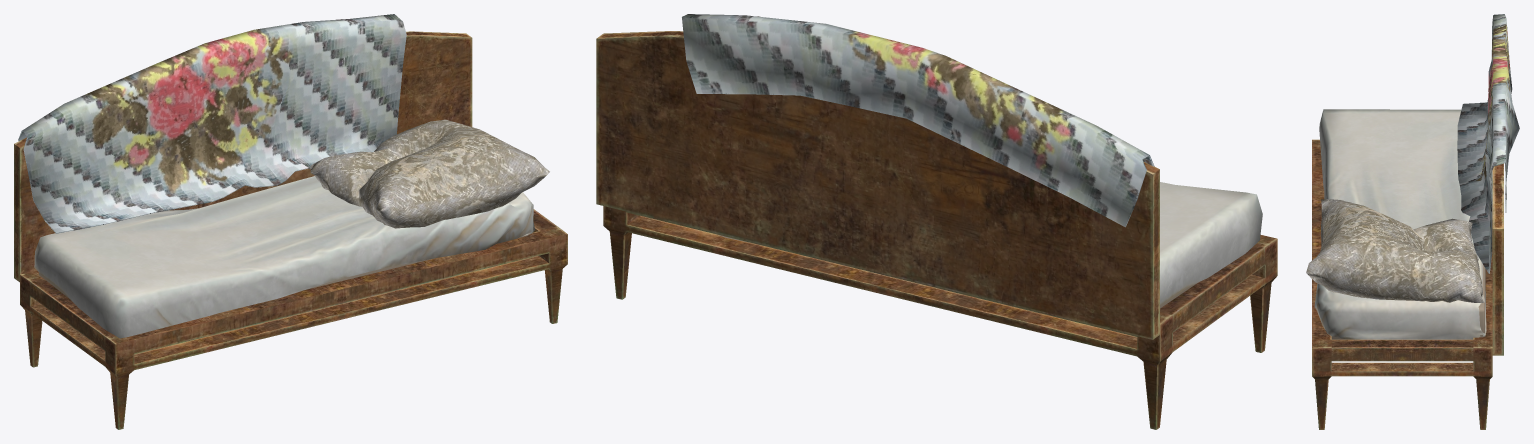
Rendered from vintage_day_bed_lod1.glb.
3 renders of one model, left to right at view 1: azimuth 30°, elevation 25°; view 2: azimuth 150°, elevation 25°; view 3: azimuth 270°, elevation 25°, orthographic. The views are drawn at different scales.
Visible parts, largest first — view 1: vintage_day_bed; view 2: vintage_day_bed; view 3: vintage_day_bed.
Part boxes in pixels (x1=…): vintage_day_bed: x1=14, y1=14, x2=567, y2=429; vintage_day_bed: x1=596, y1=14, x2=1277, y2=429; vintage_day_bed: x1=1306, y1=14, x2=1519, y2=429.
Bounding box in the file's own units: 1.97 × 1.13 × 0.8548.
Materials: 1 (1 with a texture image).
